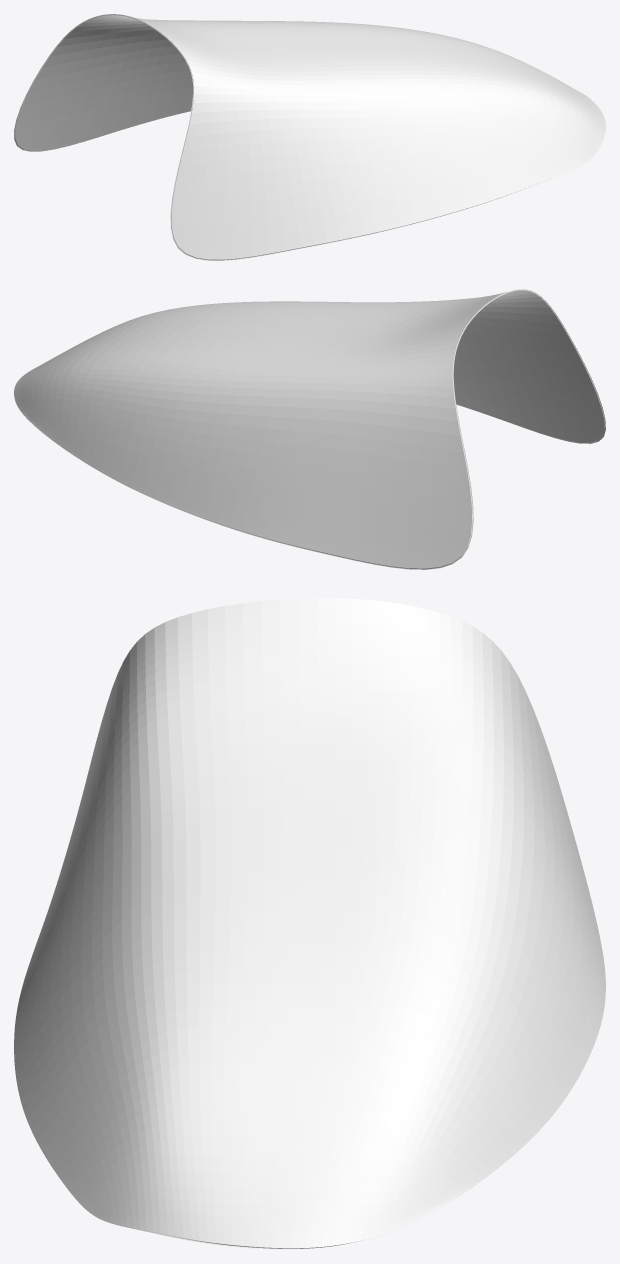
File: frontLeftWhite.obj
3 views of the same model, one above another, from view 1: azimuth 30°, elevation 25°; view 2: azimuth 150°, elevation 25°; view 3: azimuth 270°, elevation 25° (orthographic). The views are drawn at different scales.
Parts seen in each view (by area): view 1: Plane; view 2: Plane; view 3: Plane.
Part boxes in pixels (box(x1,y1,x2,y2)): Plane: box(14, 14, 605, 260); Plane: box(14, 289, 605, 569); Plane: box(14, 598, 605, 1249).
Bounding box in the file's own units: 22.11 × 7.75 × 13.46.
Materials: 1 (1 with a texture image).
